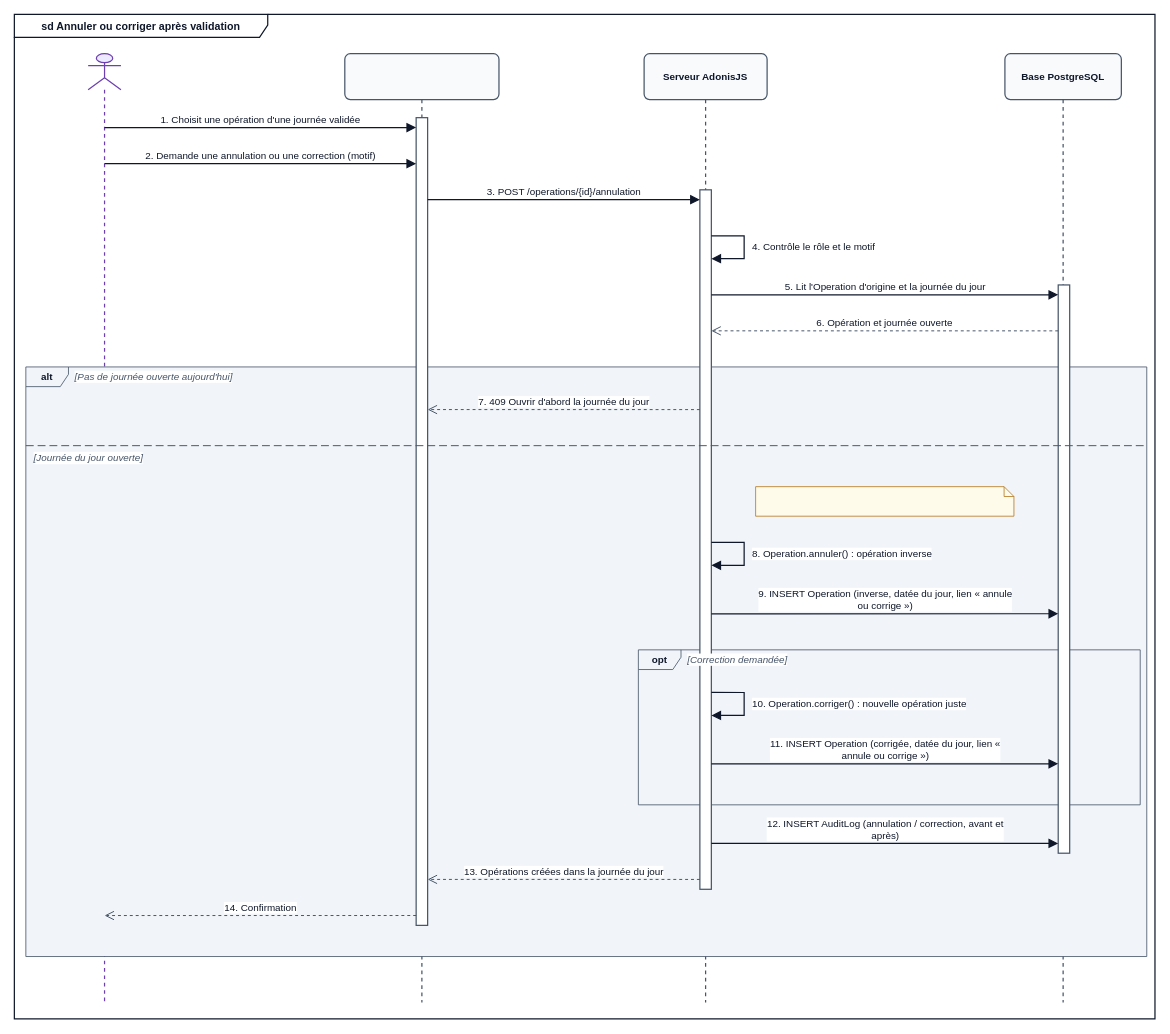
Image size: 1170x1034. Some labels were removed from this diagram. The box of each missing label's shape, as (x1, y1, x2, y2) in pixels:
Application de caisse (React): (344, 53, 499, 1003)
L'opération d'origine n'est jamais modifiée: (755, 486, 1014, 516)
Responsable: (87, 53, 121, 1003)
